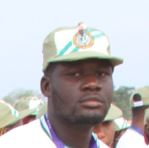without_facemask: (64, 85, 114, 124)
